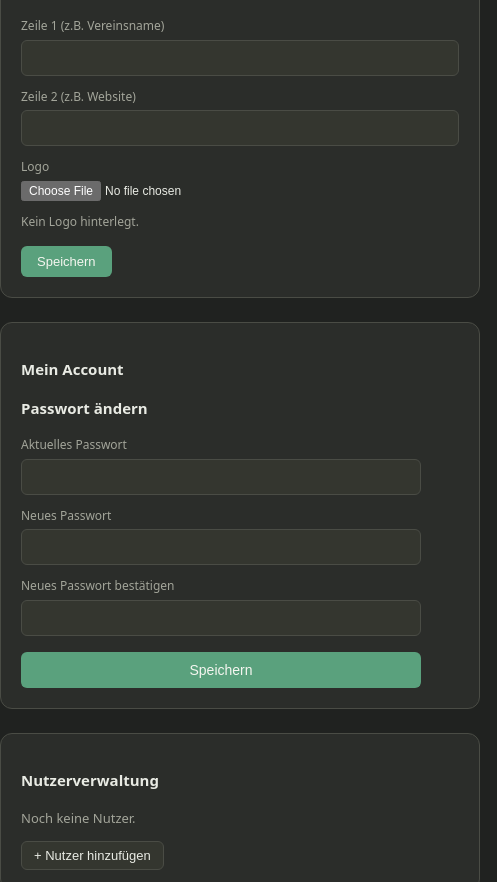
SettingsPage › user management section › shows the backend's error on a rejected create (e.g. duplicate email)
The width and height of the screenshot is (497, 882).
(page scrolled)
Expected: the text "Noch keine Nutzer." is shown, x1=21 y1=809 x2=136 y2=827
Click the button "+ Nutzer hinzufügen" at point(92, 856), box x1=21 y1=841 x2=164 y2=870
(page scrolled)
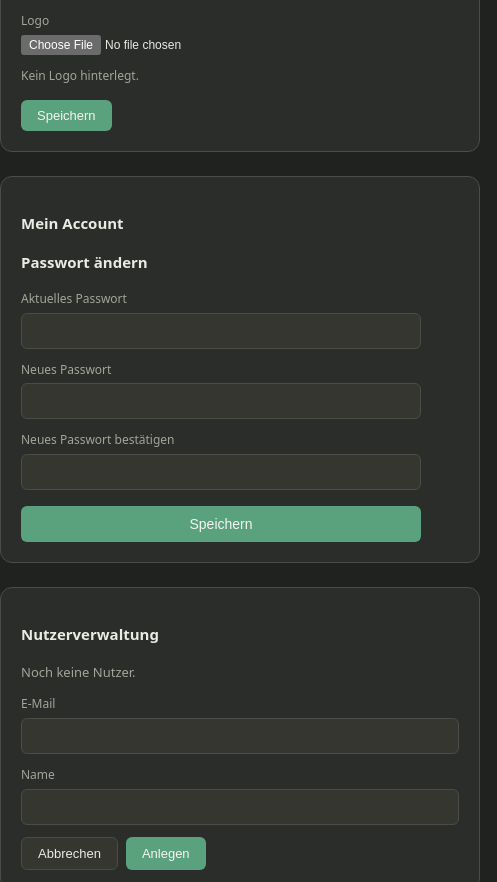
Type "dup@example.com" into the 2nd field at point(240, 736), box x1=21 y1=718 x2=459 y2=754
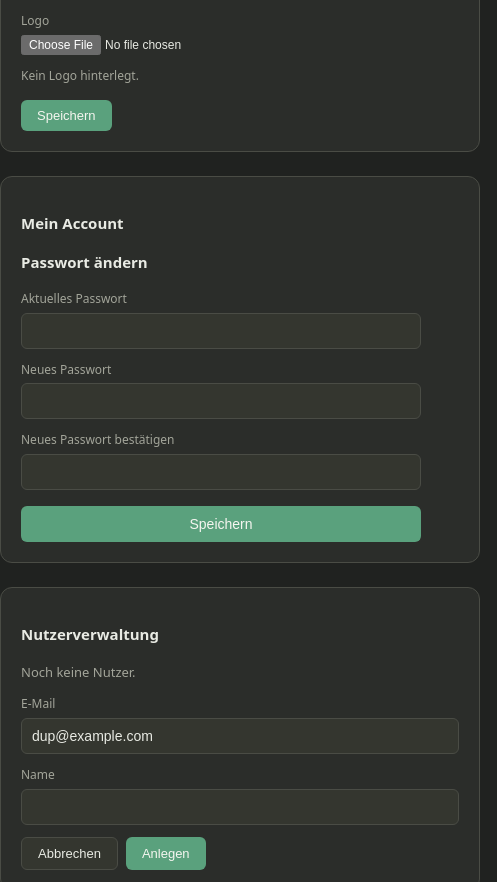
Click the button "Anlegen" at point(166, 853), box x1=126 y1=836 x2=206 y2=870
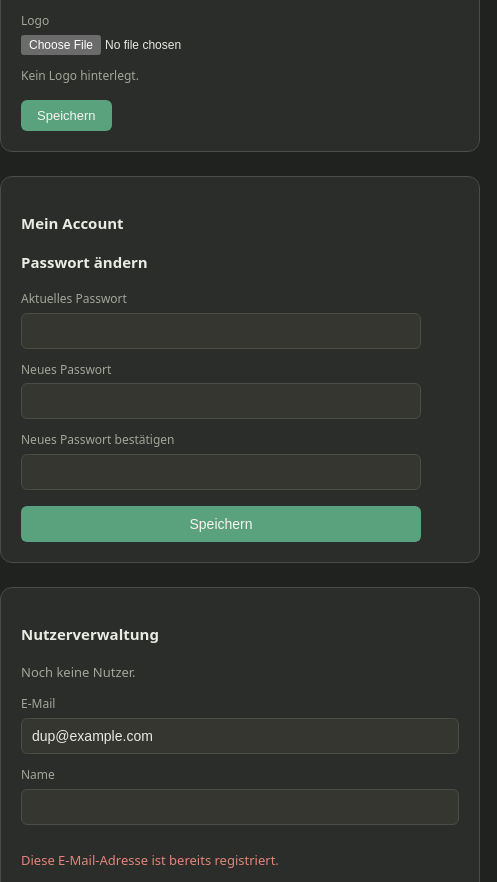
Expected: the text "Diese E-Mail-Adresse ist bereits registriert." is shown, x1=21 y1=850 x2=279 y2=868
